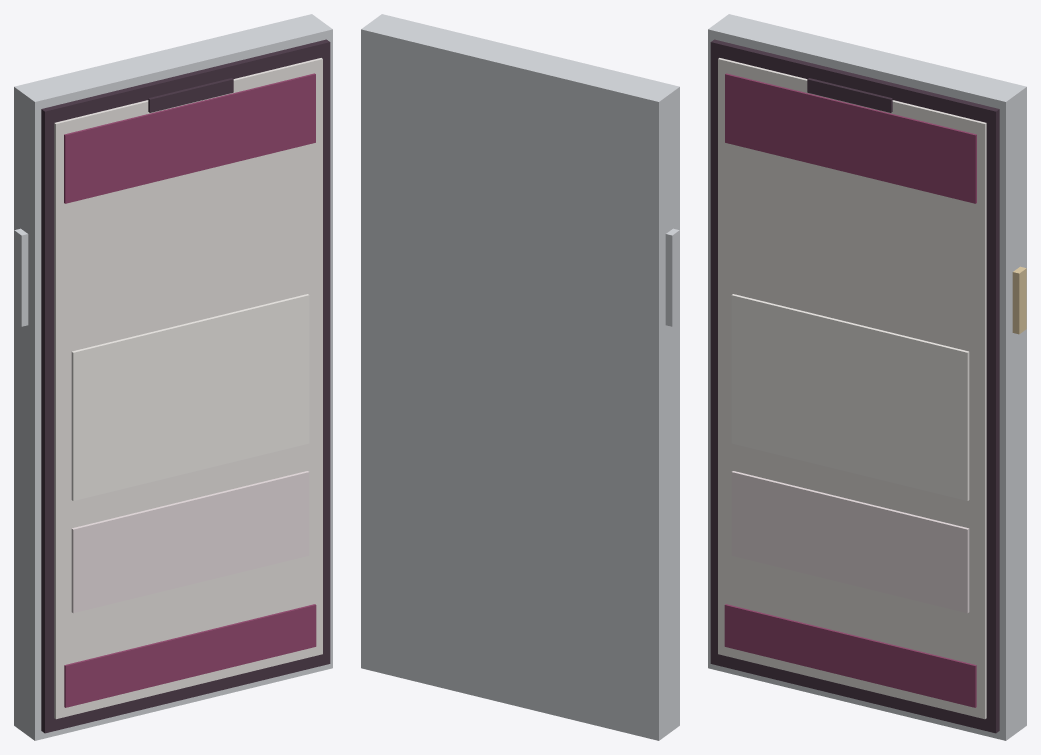
The model's file is 03_smartphone_mockup.glb.
3 views of the same model, side by side, from view 1: azimuth 30°, elevation 25°; view 2: azimuth 150°, elevation 25°; view 3: azimuth 330°, elevation 25° (orthographic).
Visible parts, largest first — view 1: Display glass, Schedule card, Phone titanium body, Black bezel, Guidance card, App burgundy header, Bottom navigation, Volume buttons, Camera island; view 2: Phone titanium body, Volume buttons; view 3: Display glass, Schedule card, Phone titanium body, Black bezel, Guidance card, App burgundy header, Bottom navigation, Camera island, Power button.
Part boxes in pixels (x1,y1,x2,y2): Display glass: (54, 58, 322, 719); Schedule card: (71, 294, 309, 500); Phone titanium body: (14, 14, 332, 740); Black bezel: (41, 39, 330, 733); Guidance card: (71, 471, 309, 613); App burgundy header: (64, 73, 315, 203); Bottom navigation: (64, 604, 316, 707); Volume buttons: (14, 228, 28, 326); Camera island: (148, 78, 233, 112); Phone titanium body: (361, 14, 679, 740); Volume buttons: (665, 228, 679, 326); Display glass: (718, 58, 986, 719); Schedule card: (731, 294, 969, 500); Phone titanium body: (708, 14, 1026, 740); Black bezel: (710, 39, 999, 733); Guidance card: (731, 471, 969, 613); App burgundy header: (725, 73, 976, 203); Bottom navigation: (724, 604, 976, 707); Camera island: (807, 78, 892, 112); Power button: (1012, 266, 1026, 334).
Bounding box in the file's own units: 0.856 × 1.68 × 0.1375.
